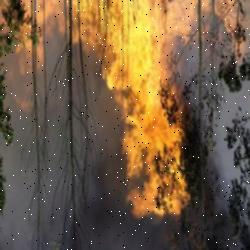fire: (79, 0, 250, 232), (0, 0, 77, 119)
